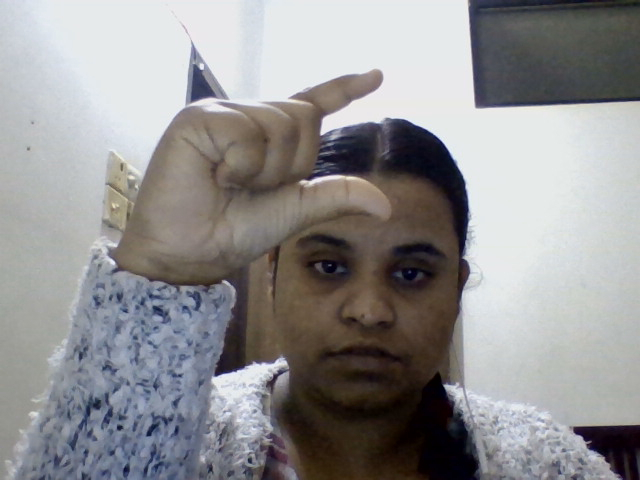No: (80, 59, 423, 266)
